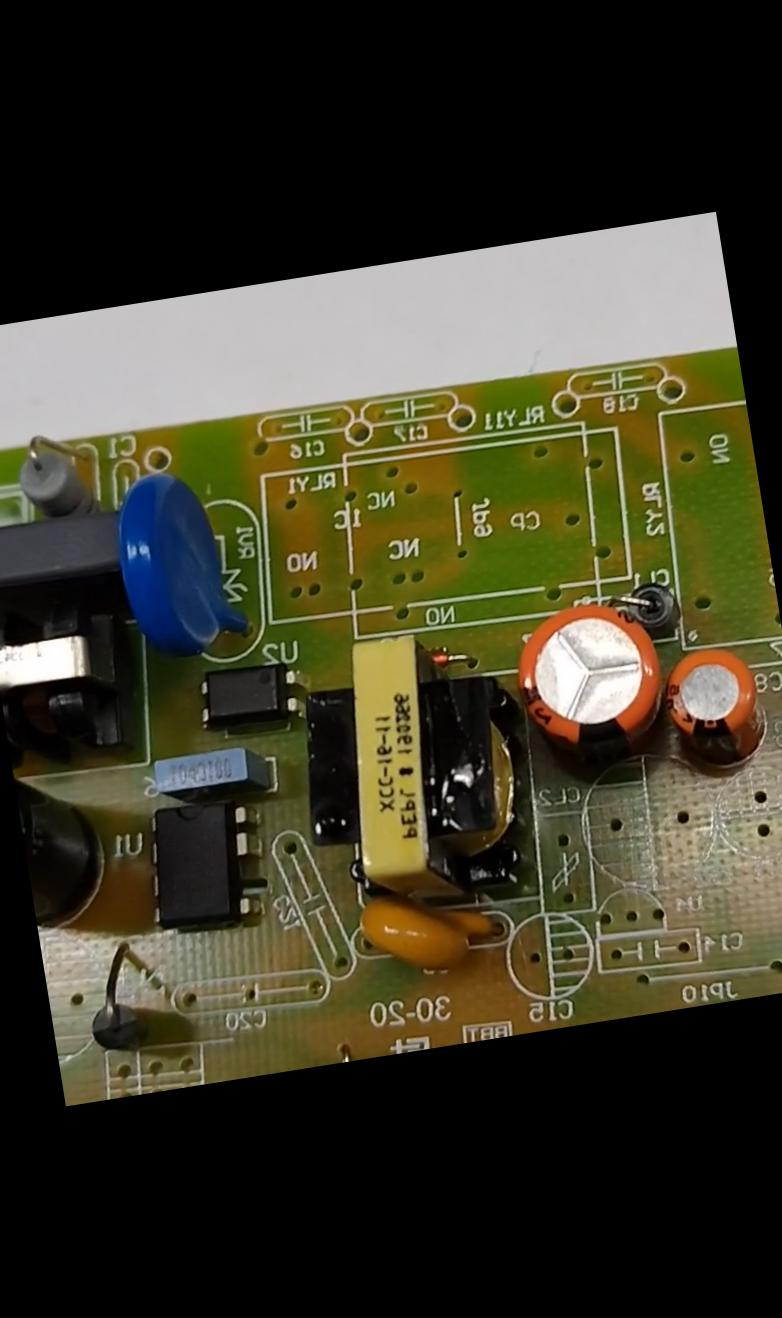Cap1: (509, 597, 666, 764)
Cap2: (662, 642, 770, 768)
Cap3: (10, 744, 102, 927)
MOSFET: (138, 795, 260, 933)
Mov: (111, 466, 243, 656)
Resistor: (14, 428, 95, 514)
Transformer: (292, 624, 528, 912), (0, 602, 98, 744)
